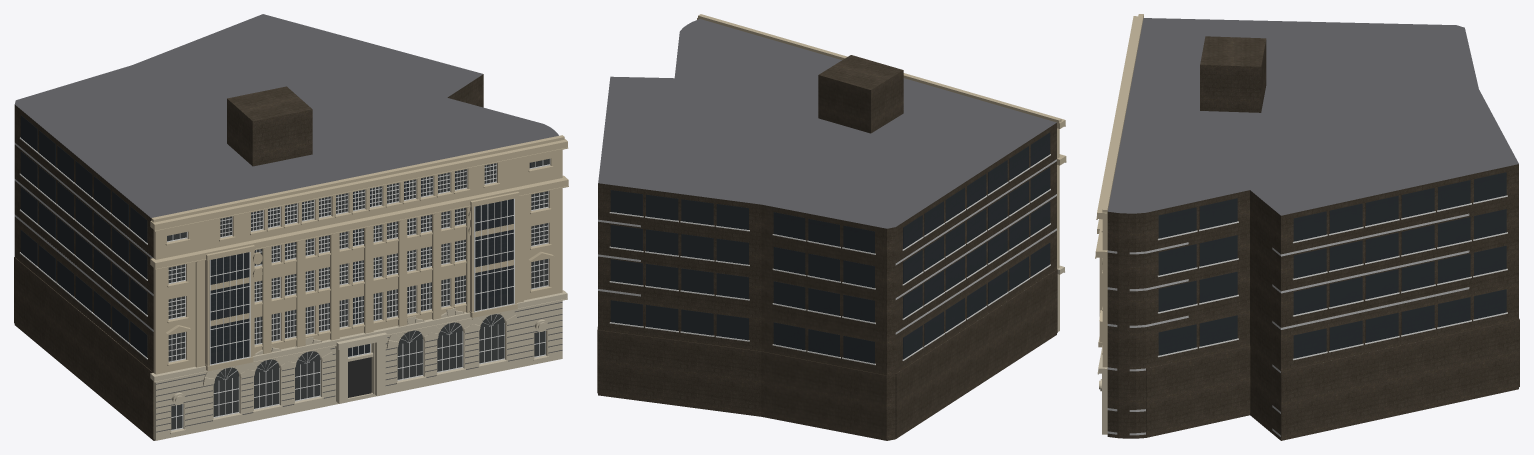
Rendered from barclay_hero_mobile_v2.glb.
The picture shows the model from 3 angles, left to right: view 1: azimuth 30°, elevation 25°; view 2: azimuth 150°, elevation 25°; view 3: azimuth 270°, elevation 25°; orthographic projection. The views are drawn at different scales.
Visible parts, largest first — view 1: HERO_Concrete_block_Roof.001, HERO_Burmantofts_white_glazed_faience, HERO_Glass_dark, HERO_Portland_stone, HERO_Window_frame_white_painted, HERO_Rustication_channel, Floor_00, HERO_Door_dark.001; view 2: HERO_Concrete_block_Roof.001, HERO_Glass_dark, HERO_Window_frame_white_painted, HERO_Burmantofts_white_glazed_faience, Floor_00; view 3: HERO_Concrete_block_Roof.001, HERO_Glass_dark, HERO_Burmantofts_white_glazed_faience, Floor_00, HERO_Window_frame_white_painted, HERO_Portland_stone.
Part boxes in pixels (x1,y1,x2,y2): HERO_Concrete_block_Roof.001: (14, 14, 558, 440); HERO_Burmantofts_white_glazed_faience: (150, 135, 568, 374); HERO_Glass_dark: (20, 115, 549, 429); HERO_Portland_stone: (150, 290, 567, 440); HERO_Window_frame_white_painted: (19, 137, 550, 430); HERO_Rustication_channel: (156, 302, 562, 432); Floor_00: (14, 142, 153, 331); HERO_Door_dark.001: (348, 357, 371, 397); HERO_Concrete_block_Roof.001: (597, 19, 1057, 440); HERO_Glass_dark: (610, 132, 1050, 363); HERO_Window_frame_white_painted: (609, 154, 1050, 365); HERO_Burmantofts_white_glazed_faience: (697, 14, 1066, 268); Floor_00: (598, 159, 1056, 334); HERO_Concrete_block_Roof.001: (1107, 18, 1519, 440); HERO_Glass_dark: (1158, 172, 1506, 358); HERO_Burmantofts_white_glazed_faience: (1095, 14, 1143, 367); Floor_00: (1107, 213, 1469, 436); HERO_Window_frame_white_painted: (1157, 195, 1507, 360); HERO_Portland_stone: (1097, 345, 1107, 434).
Size of the model in its own units: 38.64 by 24.43 by 34.67.
Materials: 9 (1 with a texture image).
